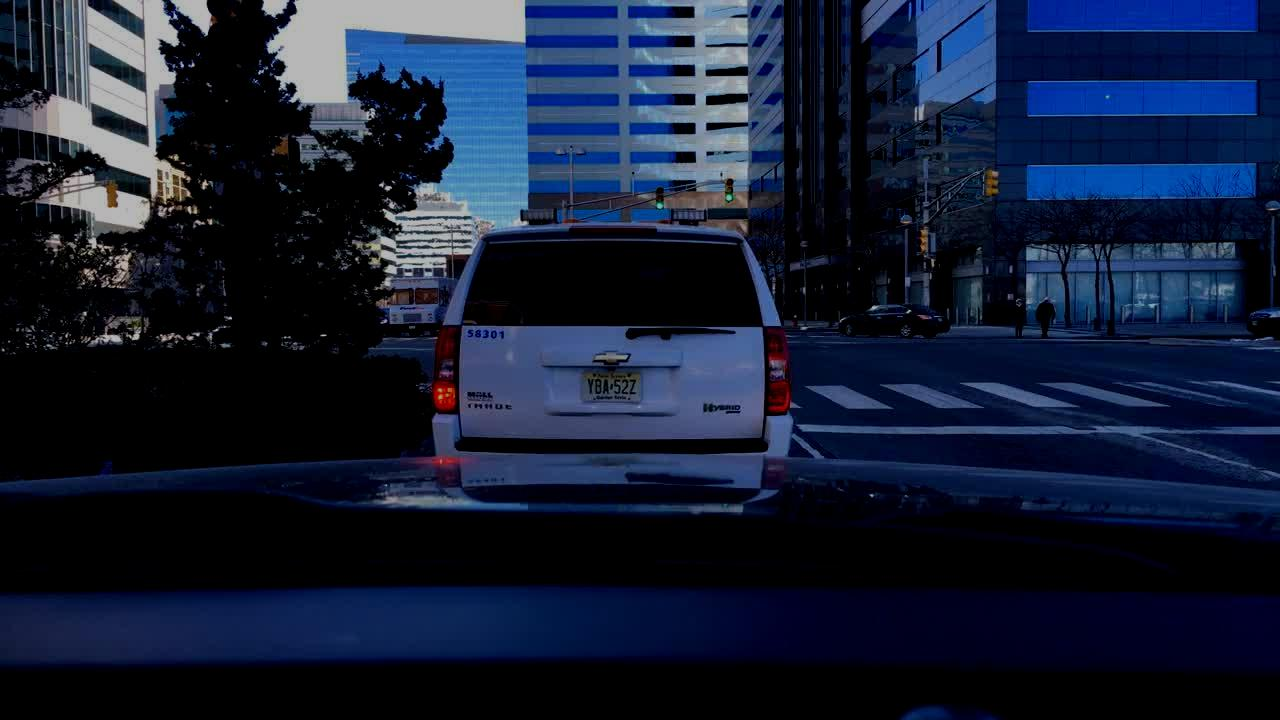chevrolet: (588, 342, 633, 370)
